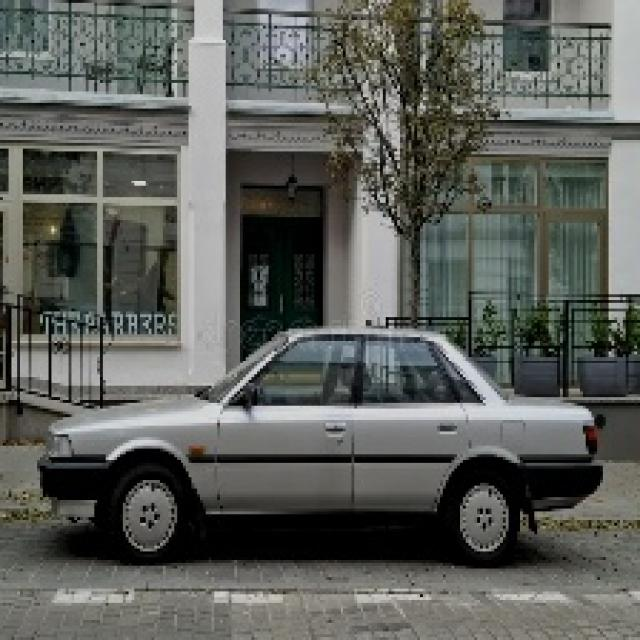car: (53, 298, 607, 548)
